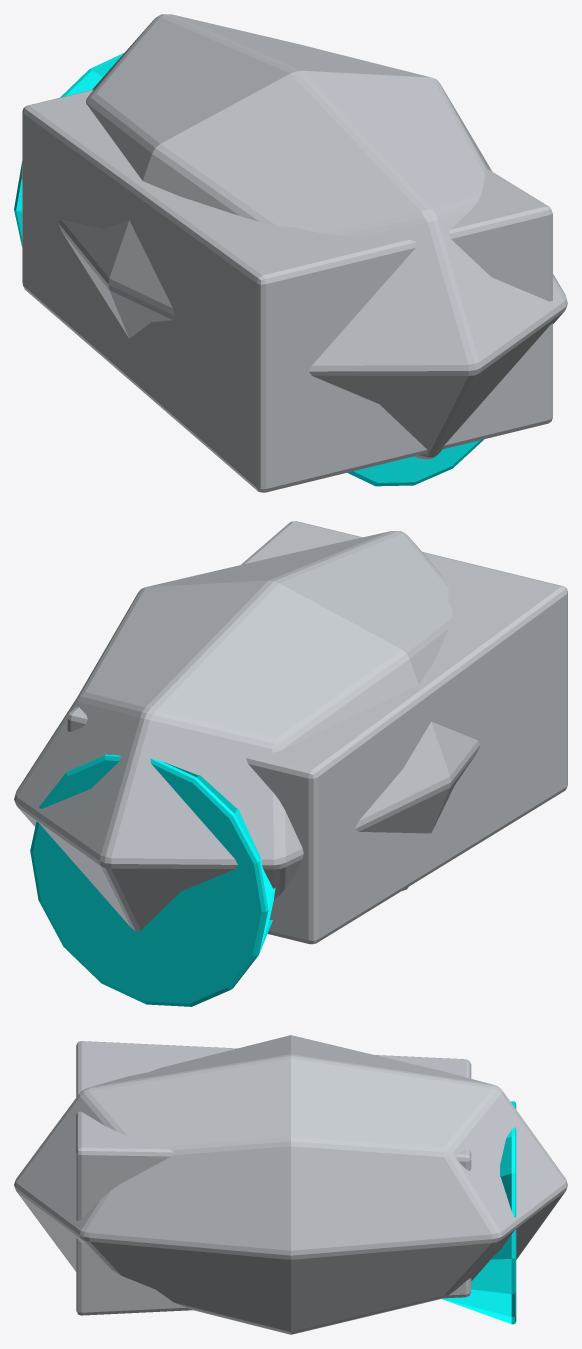
3 views of the same model, one above another, from view 1: azimuth 30°, elevation 25°; view 2: azimuth 150°, elevation 25°; view 3: azimuth 270°, elevation 25° (orthographic). The views are drawn at different scales.
Visible parts, largest first — view 1: part_09_gltf_export_temp; view 2: part_09_gltf_export_temp; view 3: part_09_gltf_export_temp.
Boxes of the visible parts, x1,y1,x2,y2 form: part_09_gltf_export_temp: (14,14,567,492); part_09_gltf_export_temp: (14,521,567,1006); part_09_gltf_export_temp: (14,1035,567,1334).
Size of the model in its own units: 0.7414 by 0.642 by 1.23.
